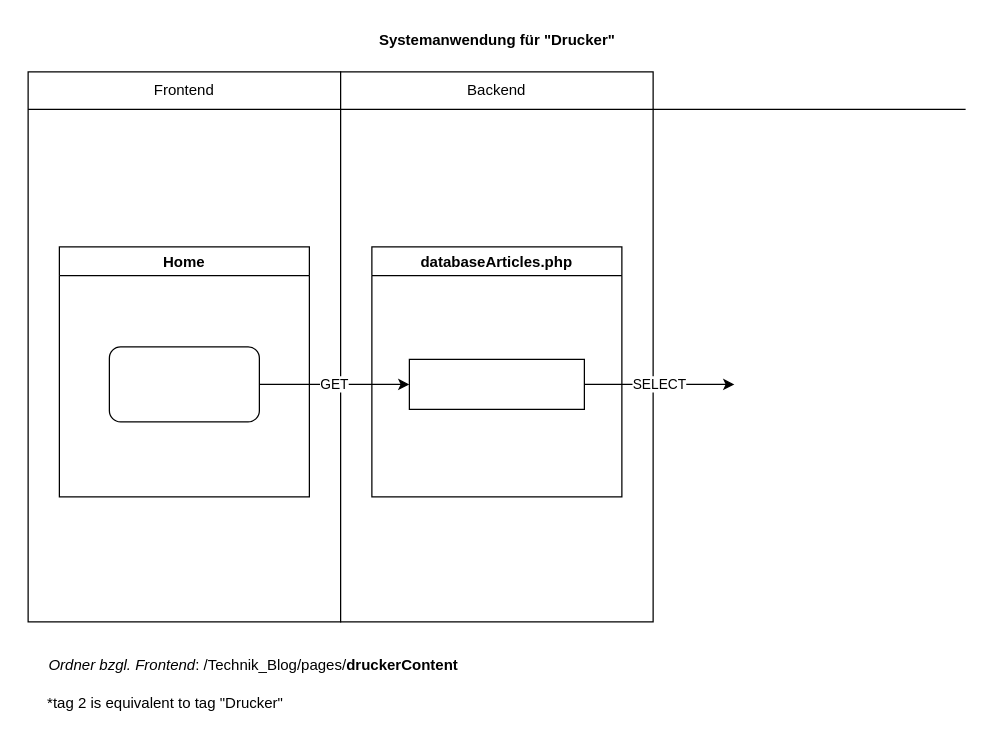
Image size: 989x743. Some labels were removed from this diagram. Each missing label, with the centre of its shape:
"Articles" goes at (x=183, y=384).
"Get 2 articles with tag 2*" goes at (x=496, y=383).
